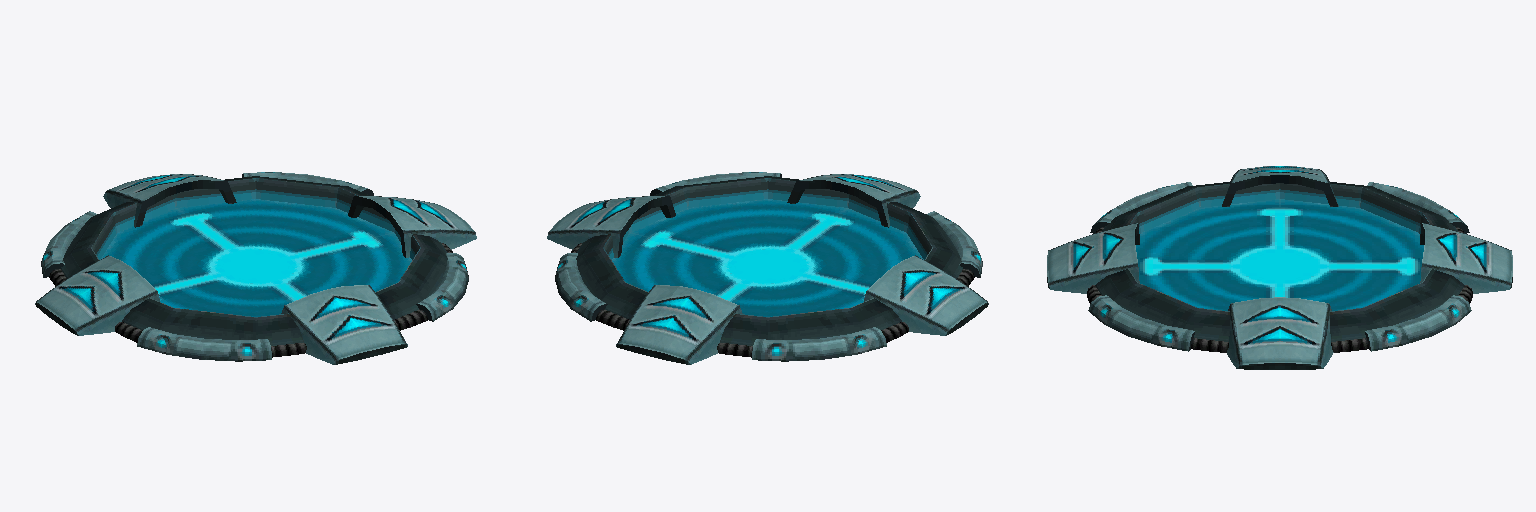
3 views of the same model, side by side, from view 1: azimuth 30°, elevation 25°; view 2: azimuth 150°, elevation 25°; view 3: azimuth 270°, elevation 25° (orthographic).
Visible parts, largest first — view 1: Texture_664; view 2: Texture_664; view 3: Texture_664.
Part boxes in pixels (x1,y1,x2,y2): Texture_664: (35, 172, 476, 364); Texture_664: (547, 172, 988, 364); Texture_664: (1047, 166, 1512, 369).
Size of the model in its own units: 48 by 4.51 by 48.
Materials: 1 (1 with a texture image).